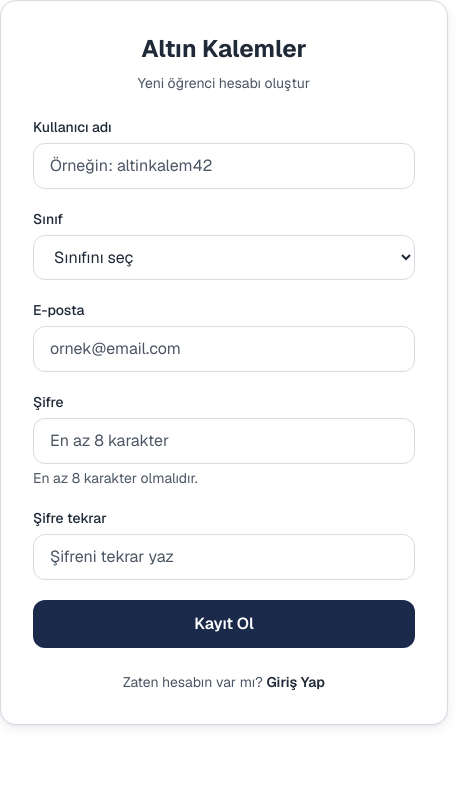
RegisterPage › bos alanlarla form gonderilemez
Step 1. Click the button "Kayıt Ol" → (224, 624), box [33,600,415,648]
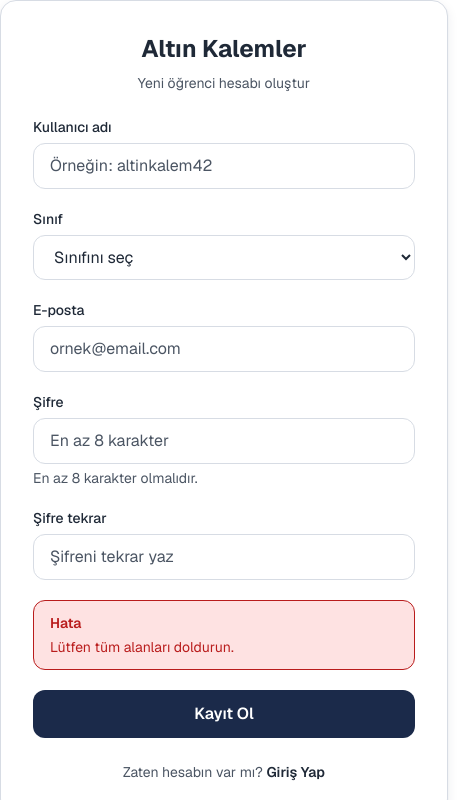
Now the text "Lütfen tüm alanları doldurun." is shown, box [50,638,234,656]
